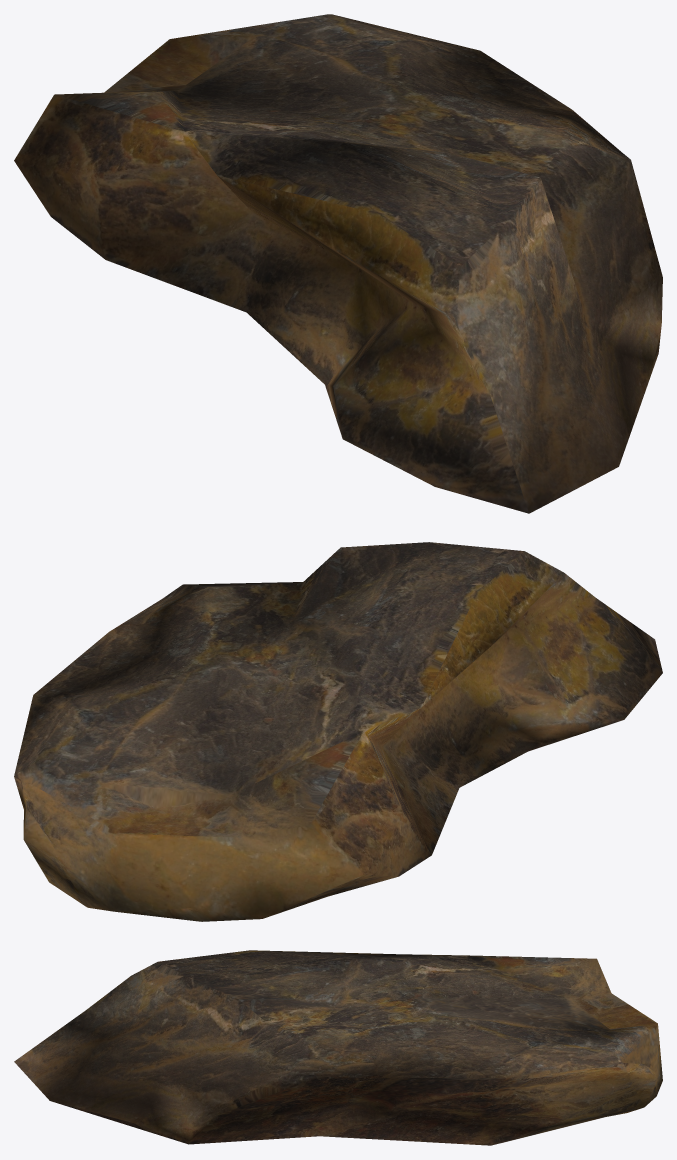
The model's file is rock_09-near.glb.
3 renders of one model, top to bottom at view 1: azimuth 30°, elevation 25°; view 2: azimuth 150°, elevation 25°; view 3: azimuth 270°, elevation 25°, orthographic. The views are drawn at different scales.
Parts seen in each view (by area): view 1: rock_09_LOD0; view 2: rock_09_LOD0; view 3: rock_09_LOD0.
Boxes of the visible parts, x1,y1,x2,y2 form: rock_09_LOD0: [14, 14, 662, 513]; rock_09_LOD0: [14, 542, 662, 921]; rock_09_LOD0: [14, 950, 662, 1145].
Bounding box in the file's own units: 1.01 × 0.4221 × 1.97.
1 material, 1 textured.
